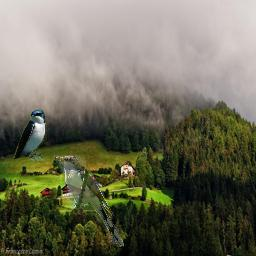Cuckoo: (54, 155, 124, 247)
Swallow: (14, 109, 47, 161)
